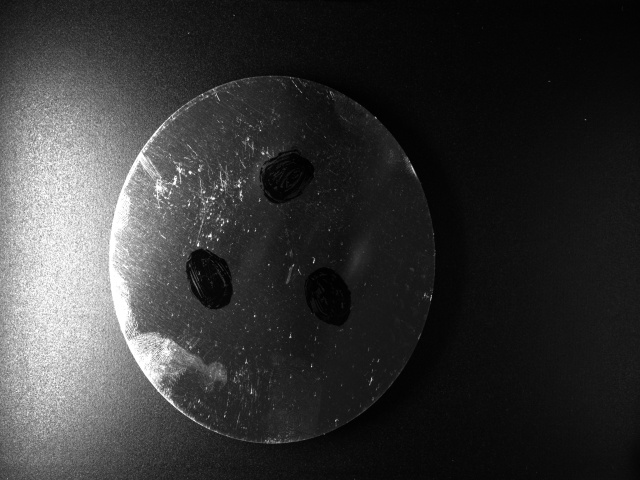zang_wu: (255, 149, 320, 209), (302, 264, 357, 331), (181, 246, 235, 311)
